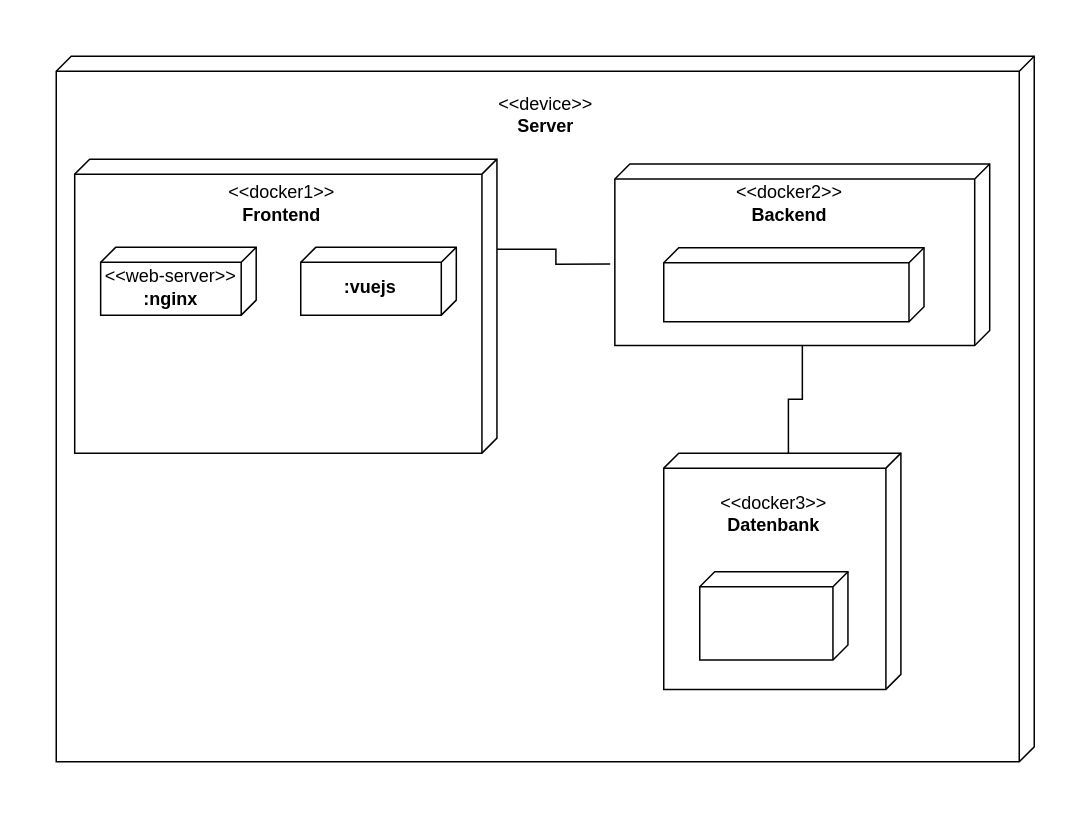
The diagram is 1089 pixels wide and 816 high, and some of its shapes have lost their labels. The shapes that lost their labels are listed below. From the top down, each one's centre as x and y in pixels, then its label:
pixel 793 284: <<api framework>> FasiAPI
pixel 773 615: :postgresql
